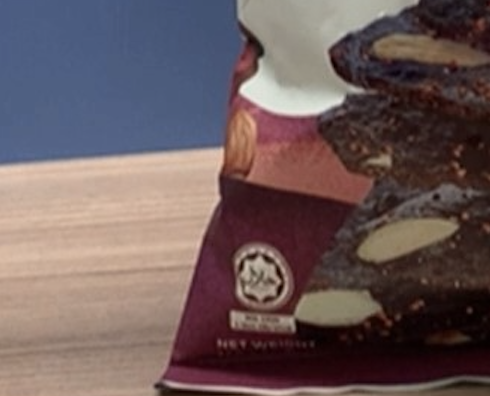halal: (240, 255, 280, 298)
